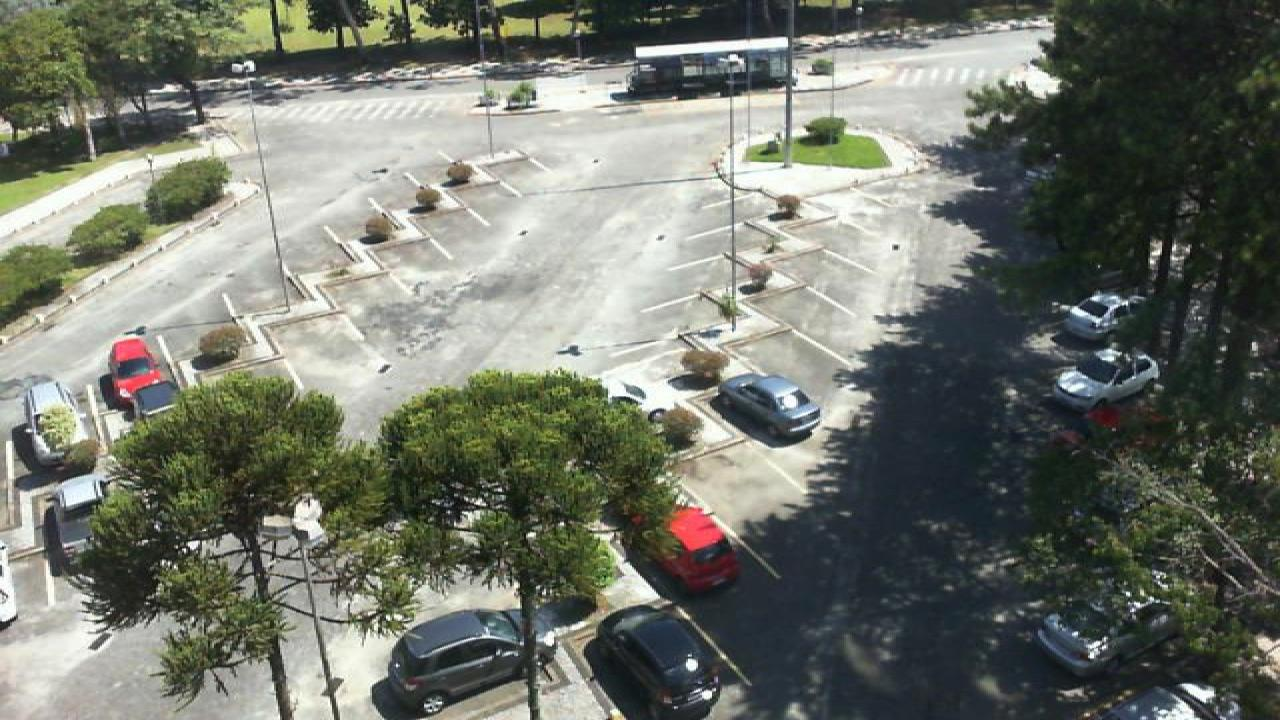Car: (380, 605, 552, 712), (594, 605, 722, 720), (1030, 596, 1184, 678), (630, 501, 742, 594), (716, 371, 824, 442), (1050, 348, 1164, 412), (1078, 680, 1248, 720), (18, 374, 82, 468), (42, 474, 110, 554), (596, 368, 688, 425), (1060, 291, 1146, 341), (108, 335, 166, 406), (128, 380, 184, 429), (0, 544, 18, 624)
